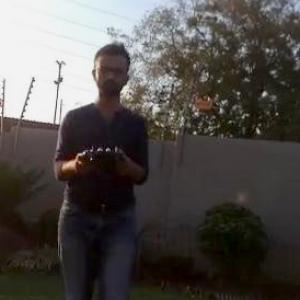follow: (46, 36, 154, 299)
